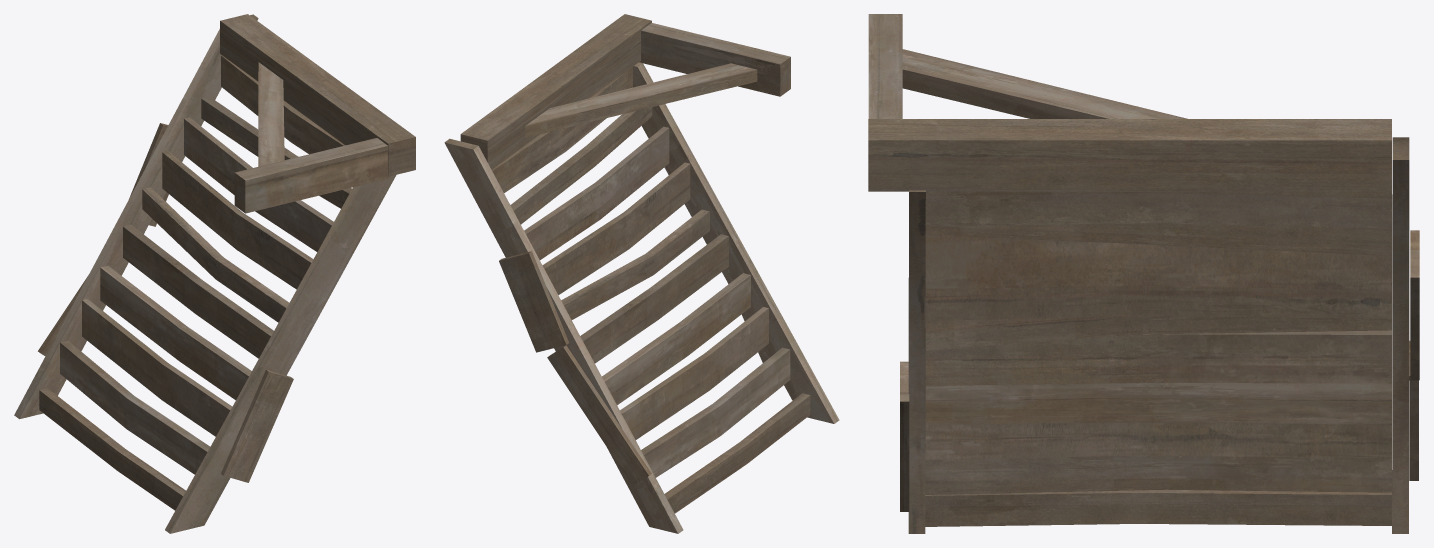
Rendered from props_forest_wood_stairs96.glb.
3 views of the same model, side by side, from view 1: azimuth 30°, elevation 25°; view 2: azimuth 150°, elevation 25°; view 3: azimuth 270°, elevation 25° (orthographic). The views are drawn at different scales.
Visible parts, largest first — view 1: models/props_forest/wood_stairs96; view 2: models/props_forest/wood_stairs96; view 3: models/props_forest/wood_stairs96.
Boxes of the visible parts, <box> form: models/props_forest/wood_stairs96: <box>14,14,415,533</box>; models/props_forest/wood_stairs96: <box>444,14,839,533</box>; models/props_forest/wood_stairs96: <box>868,14,1419,533</box>.
Size of the model in its own units: 97.11 by 133 by 122.
1 material, 1 textured.
